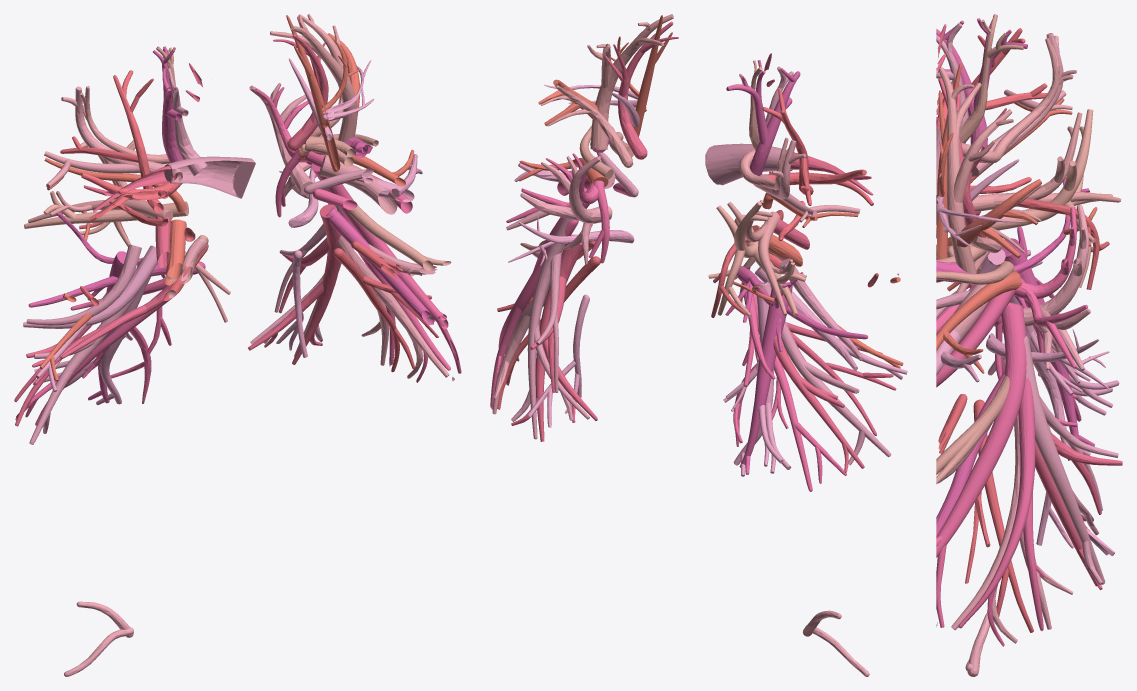
File: polmoni_interno.glb
3 renders of one model, left to right at view 1: azimuth 30°, elevation 25°; view 2: azimuth 150°, elevation 25°; view 3: azimuth 270°, elevation 25°, orthographic. The views are drawn at different scales.
Parts seen in each view (by area): view 1: left posterior basal segmental bronchial tree, right posterior segmental vein, right posterior basal segmental vein, right upper lobar artery, left apical segmental bronchial tree, left lateral basal segmental bronchial tree, right posterior segmental bronchial tree, right anterior basal segmental bronchial tree, right superior segmental bronchial tree, left anterior basal segmental artery, left lateral basal segmental vein, left posterior segmental vein (+28 smaller); view 2: left posterior basal segmental artery, left posterior basal segmental bronchial tree, left superior segmental bronchial tree, right posterior basal segmental vein, right superior segmental bronchial tree, left apical segmental bronchial tree, right lateral basal segmental bronchial tree, mediobasal branch of right posterior basal segmental artery, right apical segmental bronchial tree, left superior segmental artery, right upper lobar artery, left posterior segmental vein (+25 smaller); view 3: left anterior basal segmental artery, left lateral basal segmental artery, left posterior basal segmental artery, left apical segmental bronchial tree, left superior segmental bronchial tree, left superior segmental artery, left lateral basal segmental bronchial tree, left posterior basal segmental bronchial tree, left posterior segmental vein, left lateral basal segmental vein, right superior segmental bronchial tree, left medial basal segmental artery (+31 smaller).
Boxes of the visible parts, x1,y1,x2,y2 form: left posterior basal segmental bronchial tree: (248, 204, 341, 364); right posterior segmental vein: (60, 70, 195, 241); right posterior basal segmental vein: (15, 284, 179, 425); right upper lobar artery: (164, 156, 255, 198); left apical segmental bronchial tree: (270, 14, 357, 142); left lateral basal segmental bronchial tree: (338, 235, 449, 378); right posterior segmental bronchial tree: (44, 86, 165, 188); right anterior basal segmental bronchial tree: (23, 245, 157, 391); right superior segmental bronchial tree: (24, 140, 188, 246); left anterior basal segmental artery: (311, 163, 461, 373); left lateral basal segmental vein: (333, 248, 438, 372); left posterior segmental vein: (279, 58, 374, 227); left posterior basal segmental artery: (511, 217, 589, 439); left posterior basal segmental bronchial tree: (511, 234, 597, 441); left superior segmental bronchial tree: (506, 156, 612, 264); right posterior basal segmental vein: (733, 294, 846, 491); right superior segmental bronchial tree: (708, 201, 806, 317); left apical segmental bronchial tree: (587, 14, 673, 149); right lateral basal segmental bronchial tree: (759, 282, 891, 465); mediobasal branch of right posterior basal segmental artery: (739, 282, 792, 474); right apical segmental bronchial tree: (726, 60, 800, 175); left superior segmental artery: (506, 153, 609, 263); right upper lobar artery: (705, 143, 795, 185); left posterior segmental vein: (508, 84, 639, 265); left anterior basal segmental artery: (936, 305, 1026, 627); left lateral basal segmental artery: (958, 349, 1047, 646); left posterior basal segmental artery: (1024, 336, 1118, 584); left apical segmental bronchial tree: (939, 67, 1013, 273); left superior segmental bronchial tree: (1023, 204, 1090, 370); left superior segmental artery: (1014, 207, 1087, 368); left lateral basal segmental bronchial tree: (951, 413, 1073, 643); left posterior basal segmental bronchial tree: (1004, 373, 1122, 589); left posterior segmental vein: (936, 159, 1109, 389); left lateral basal segmental vein: (965, 399, 1033, 632); right superior segmental bronchial tree: (982, 109, 1112, 287); left medial basal segmental artery: (936, 375, 1009, 483).
Bounding box in the file's own units: 242 × 341 × 78.78.
